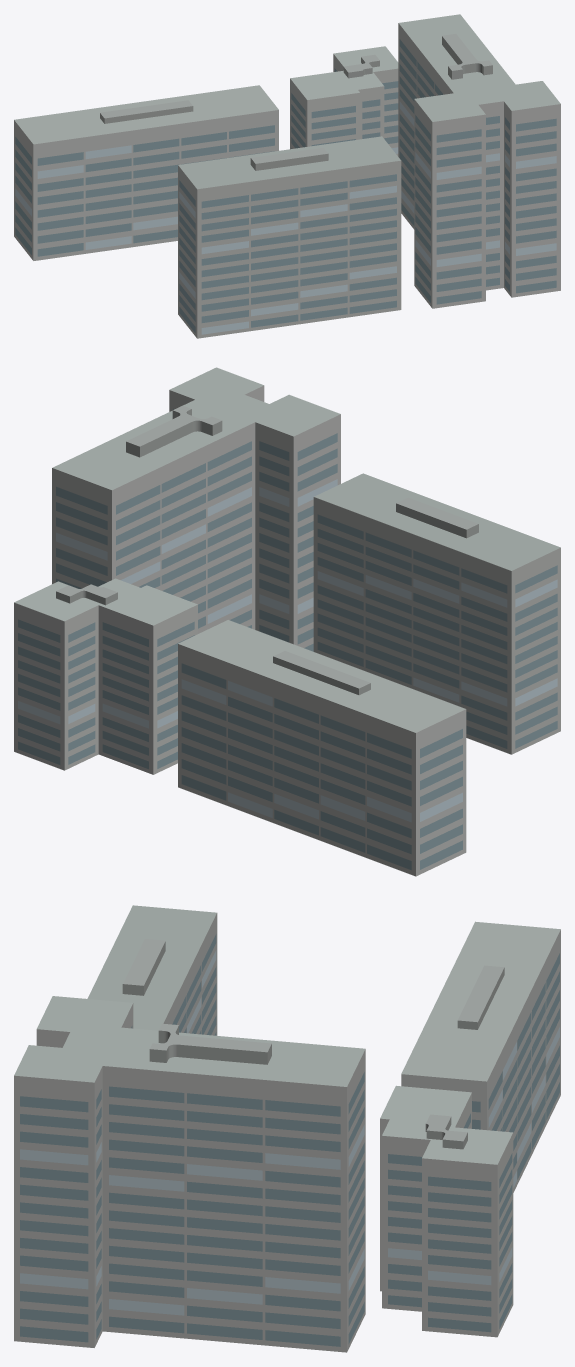
The model's file is apt-a15004101.glb.
The picture shows the model from 3 angles, top to bottom: view 1: azimuth 30°, elevation 25°; view 2: azimuth 150°, elevation 25°; view 3: azimuth 270°, elevation 25°; orthographic projection. The views are drawn at different scales.
Visible parts, largest first — view 1: apt-a15004101; view 2: apt-a15004101; view 3: apt-a15004101.
Boxes of the visible parts, <box> form: apt-a15004101: <box>14,14,560,338</box>; apt-a15004101: <box>14,367,560,876</box>; apt-a15004101: <box>14,905,560,1352</box>.
Bounding box in the file's own units: 81.73 × 40 × 71.32.
